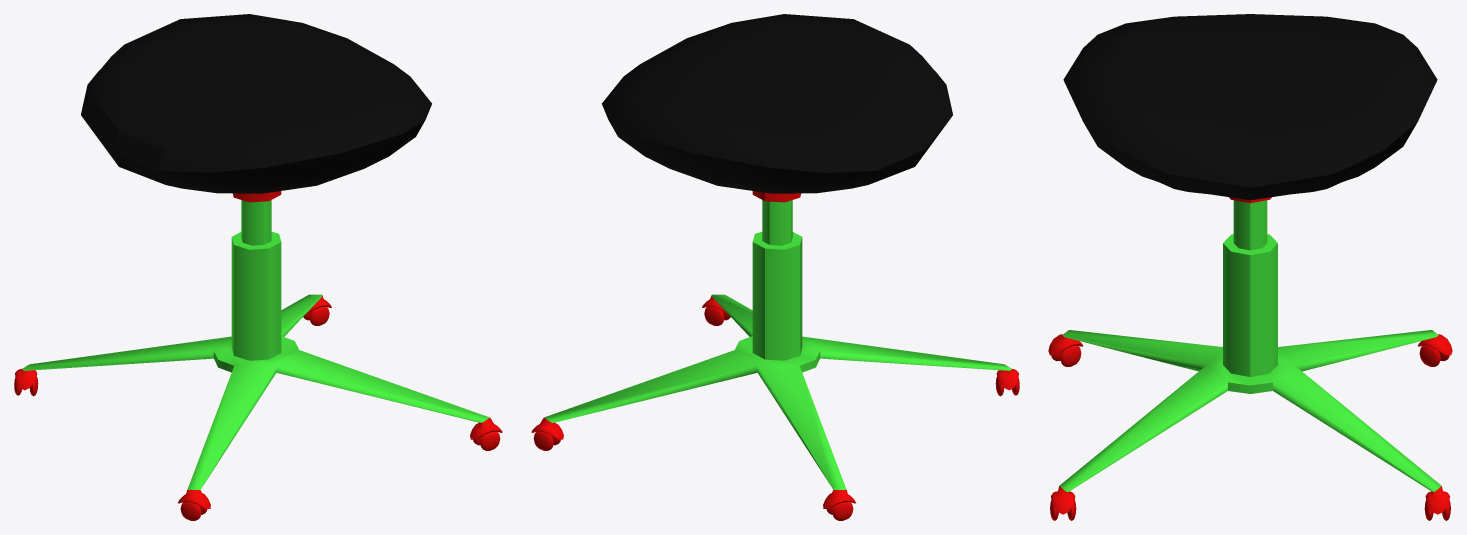
File: SM_Tabouret.fbx
3 renders of one model, left to right at view 1: azimuth 30°, elevation 25°; view 2: azimuth 150°, elevation 25°; view 3: azimuth 270°, elevation 25°, orthographic. The views are drawn at different scales.
Parts seen in each view (by area): view 1: SM_Tabouret; view 2: SM_Tabouret; view 3: SM_Tabouret.
Boxes of the visible parts, box(x1,y1,x2,y2) form: SM_Tabouret: box(14, 14, 502, 520); SM_Tabouret: box(531, 14, 1019, 520); SM_Tabouret: box(1048, 14, 1452, 520).
Bounding box in the file's own units: 70.16 × 72.89 × 70.26.
